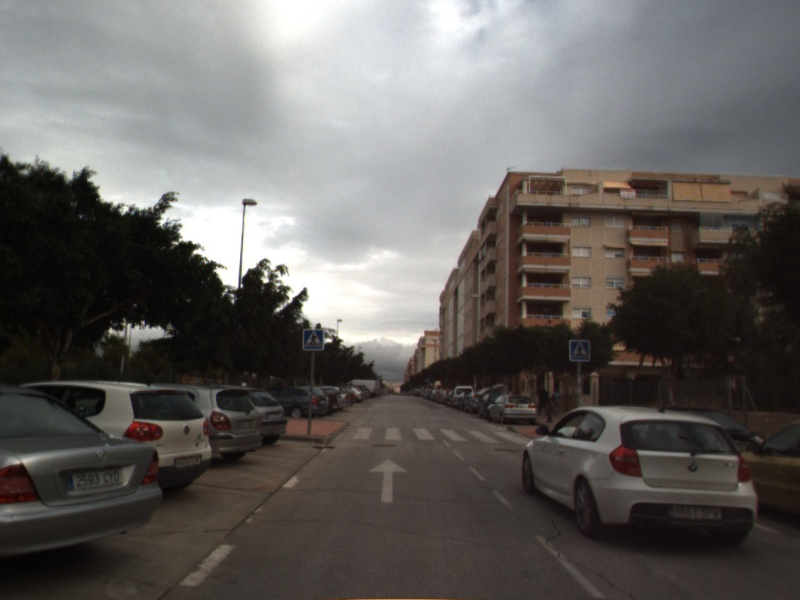STRAIGHT: (366, 457, 411, 504)
